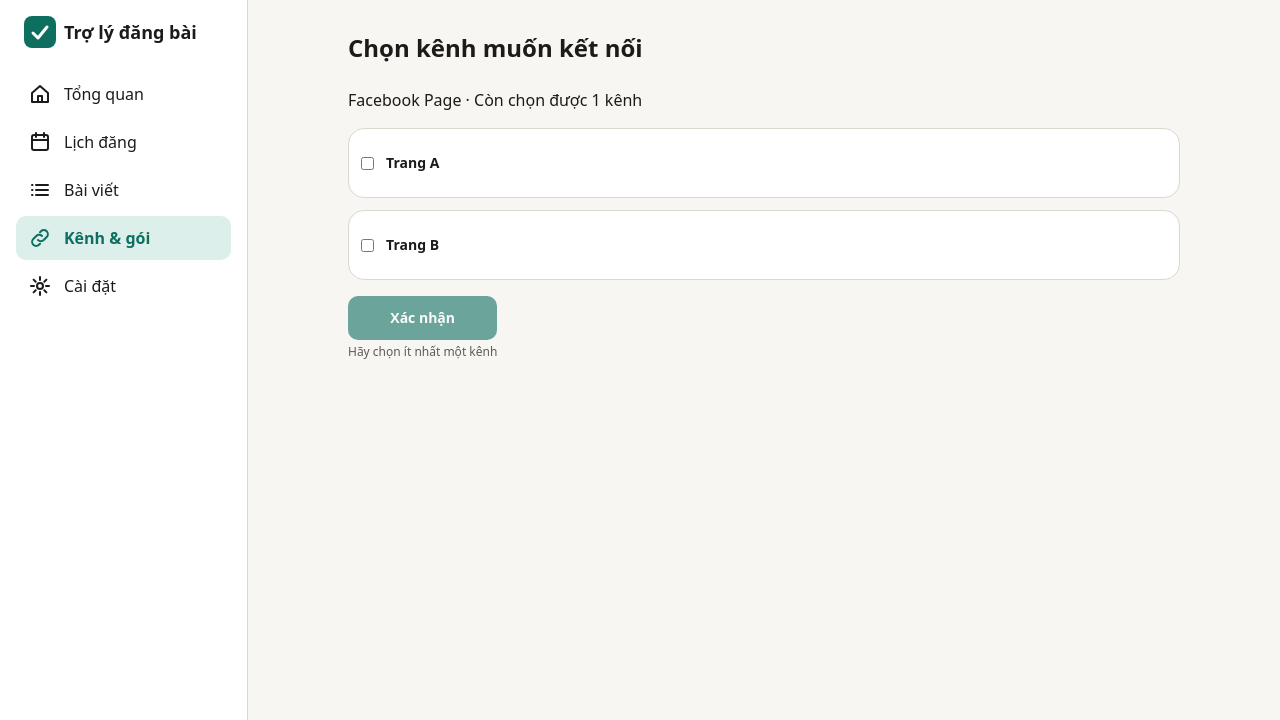
Test: SelectChannelsPage › chọn quá chỗ còn lại ⇒ "Xác nhận" khóa kèm giải thích
Click the checkbox labelled "Trang A". click: point(368, 163)
box: [361,156,374,170]
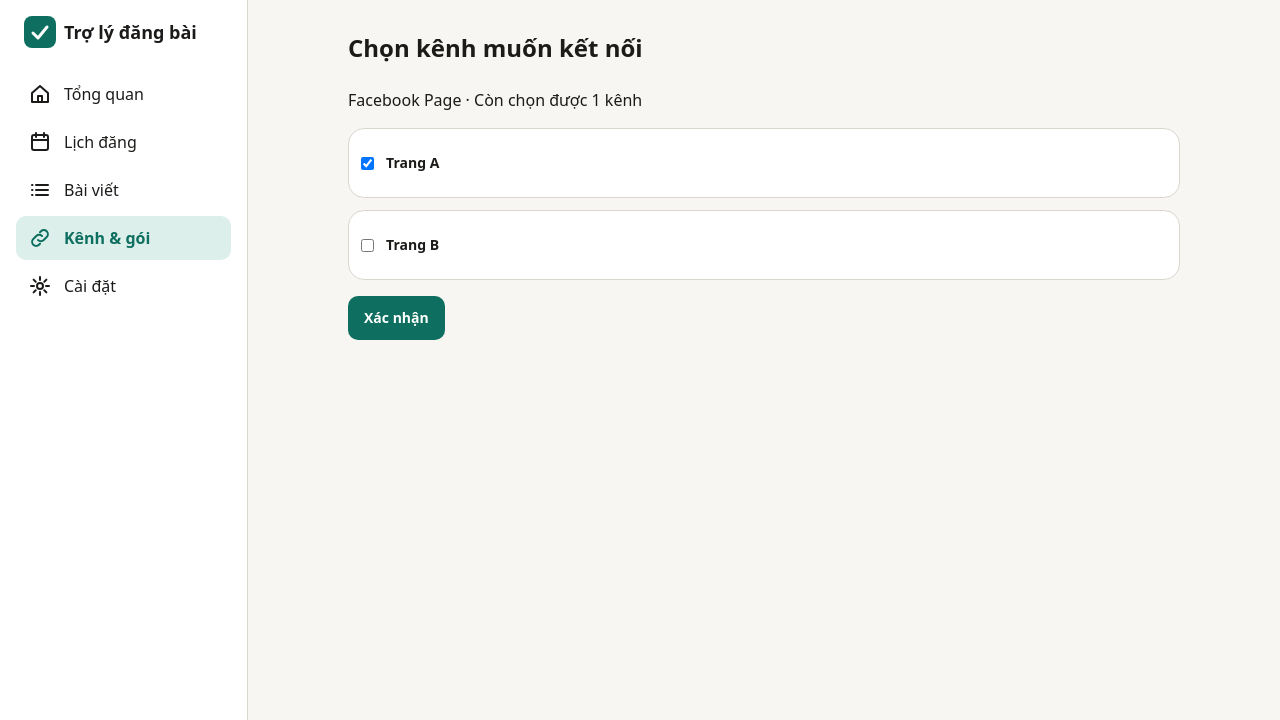
Click the checkbox labelled "Trang B". click: point(368, 245)
box: [361,238,374,252]
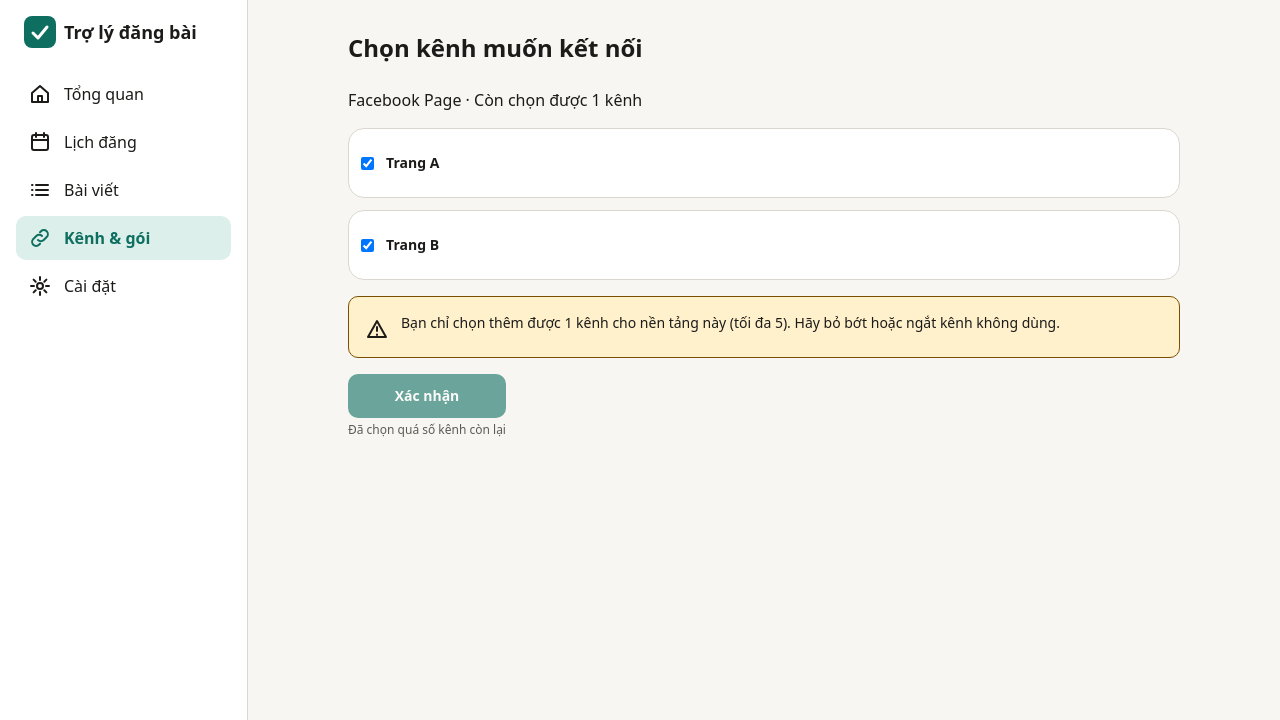
Check: the text "chỉ chọn thêm được 1 kênh" is shown, box [401,313,1163,333]
